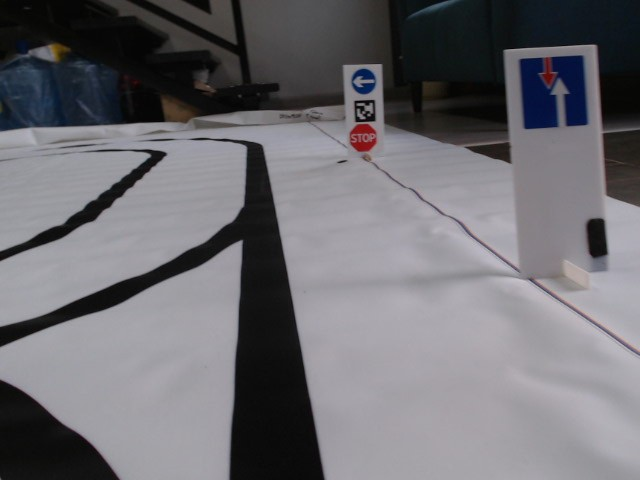Stop: (349, 123, 376, 152)
priority_movement: (516, 57, 589, 129)
